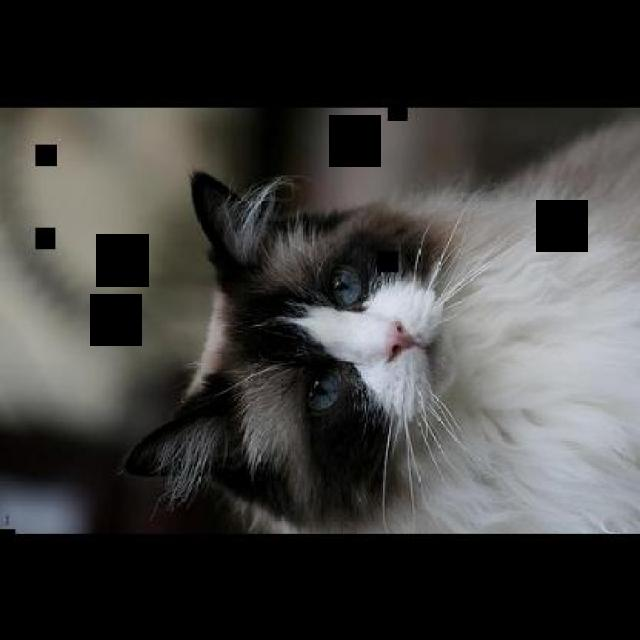unauthorized: (120, 111, 638, 535)
